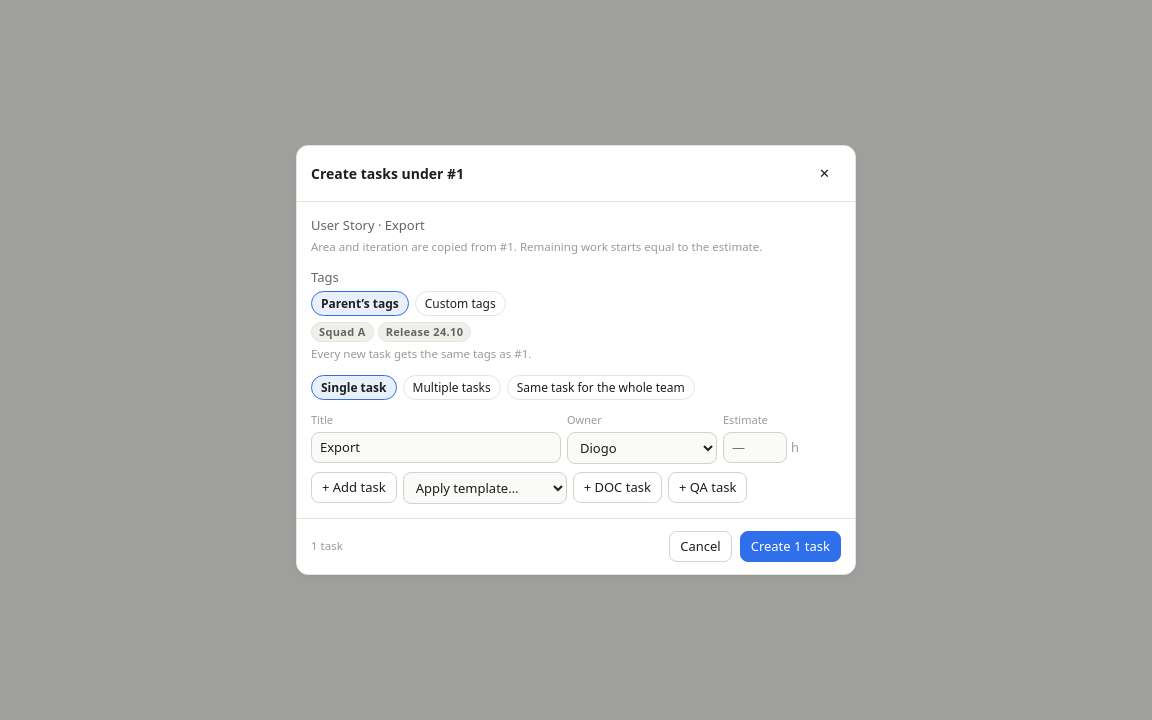
Test: CreateTasksDialog › a request that fails outright shows the message and keeps the form
Click the button "Create 1 task" at [790, 546], box 740,531 -> 841,562
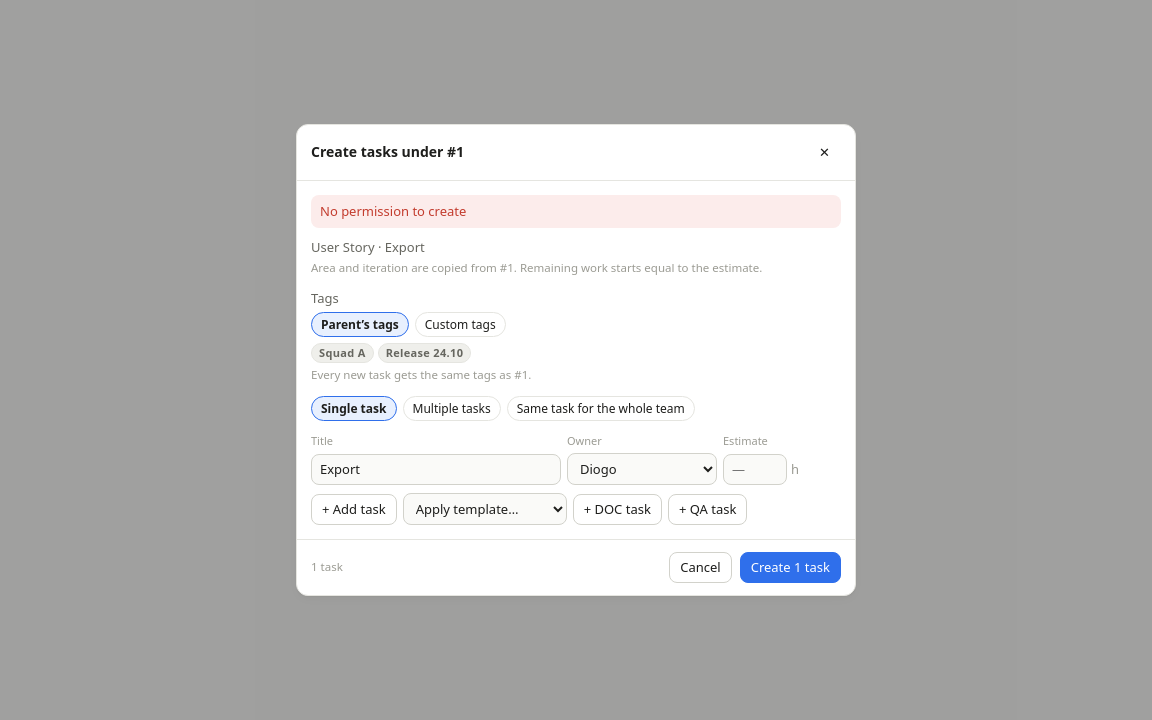
Expected: the field named "Task title" holds "Export", 311,454 -> 561,485
Now the text "No permission to create" is shown, box 311,195 -> 841,228
